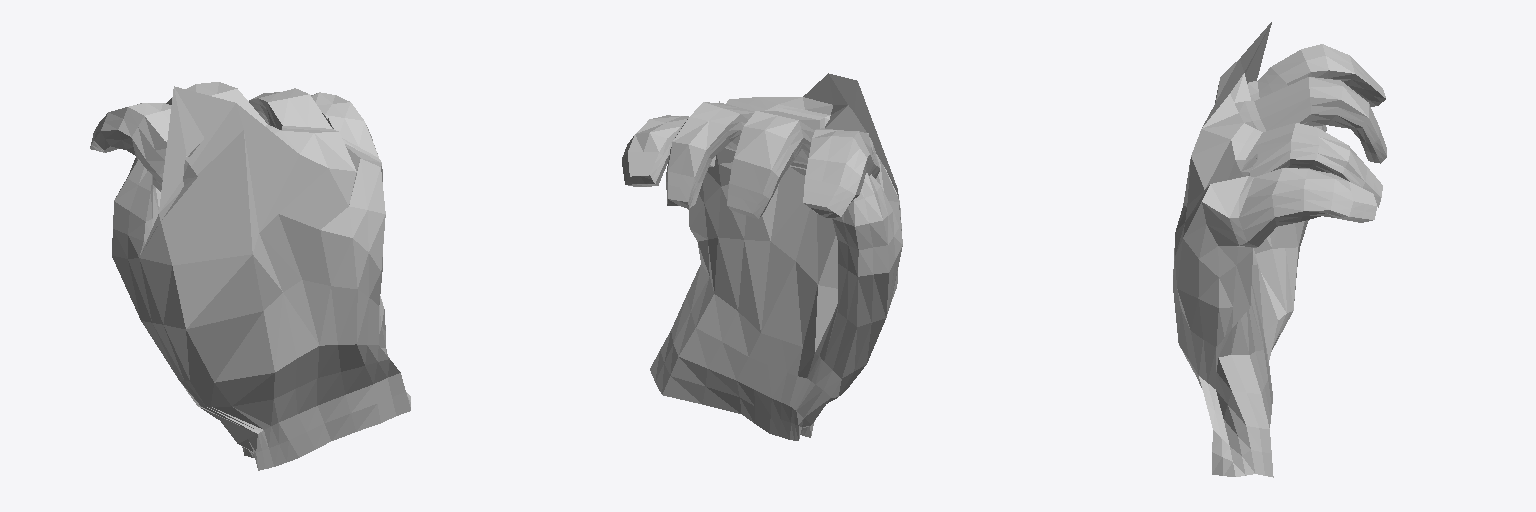
Rendered from hand_sub2_triang0052.obj.
3 views of the same model, side by side, from view 1: azimuth 30°, elevation 25°; view 2: azimuth 150°, elevation 25°; view 3: azimuth 270°, elevation 25° (orthographic).
Visible parts, largest first — view 1: Hand; view 2: Hand; view 3: Hand.
Boxes of the visible parts, <box> form: Hand: <box>90,82,410,470</box>; Hand: <box>622,73,902,440</box>; Hand: <box>1173,22,1386,477</box>.
Bounding box in the file's own units: 2.77 × 3.85 × 1.94.